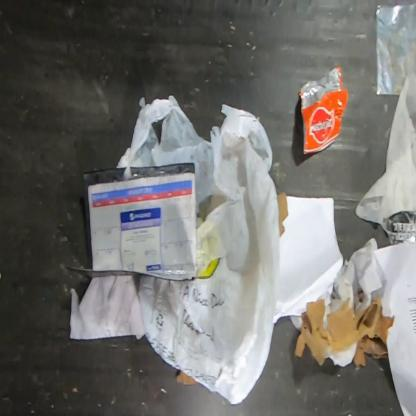cardboard: (294, 297, 396, 369), (276, 192, 288, 238)
rigid_plastic: (375, 3, 416, 96)
soft_plastic: (130, 95, 280, 406), (66, 164, 196, 280), (298, 66, 348, 155)
